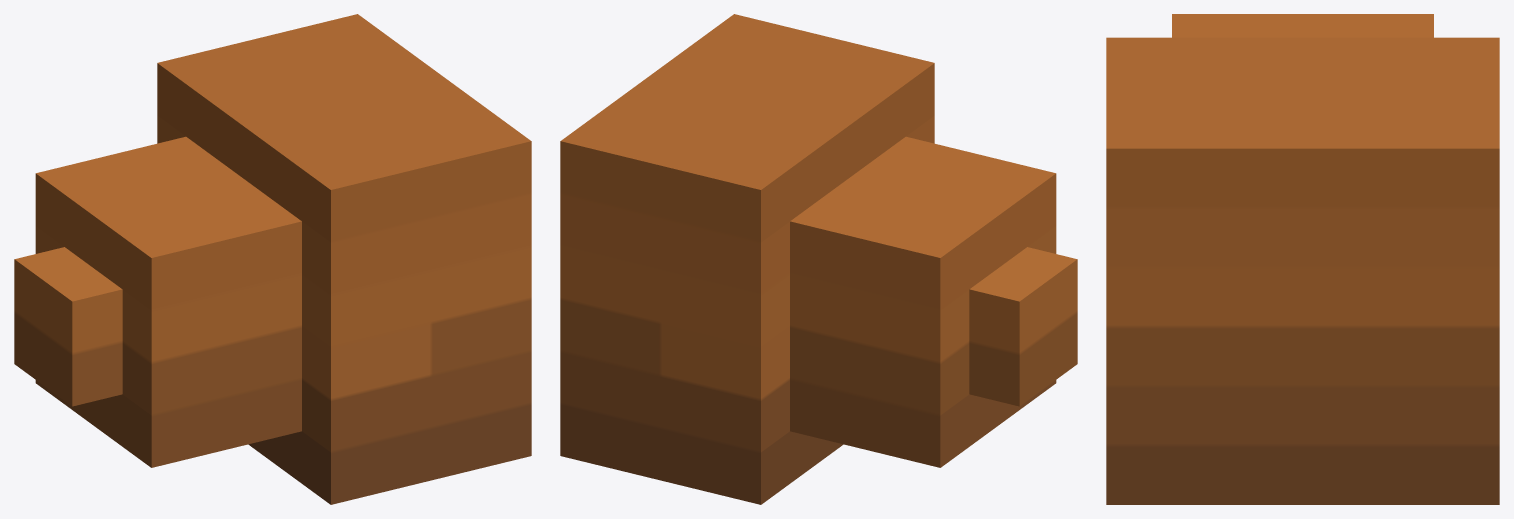
The model's file is Shoulder041.fbx.
3 views of the same model, side by side, from view 1: azimuth 30°, elevation 25°; view 2: azimuth 150°, elevation 25°; view 3: azimuth 270°, elevation 25° (orthographic). The views are drawn at different scales.
Parts seen in each view (by area): view 1: Shoulder041; view 2: Shoulder041; view 3: Shoulder041.
Boxes of the visible parts, x1=… form: Shoulder041: x1=14, y1=14, x2=531, y2=504; Shoulder041: x1=560, y1=14, x2=1077, y2=504; Shoulder041: x1=1106, y1=14, x2=1499, y2=504.
Size of the model in its own units: 8 by 6 by 6.
